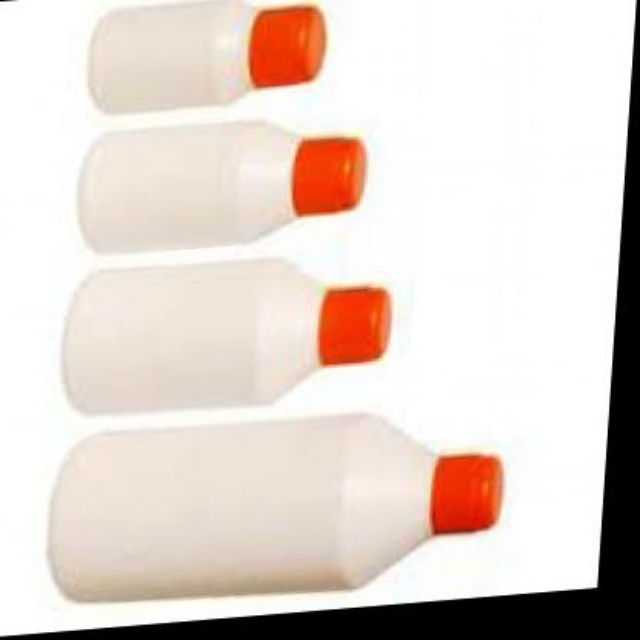trash: (49, 414, 502, 600), (63, 258, 389, 411), (78, 122, 365, 251), (89, 0, 325, 111)
